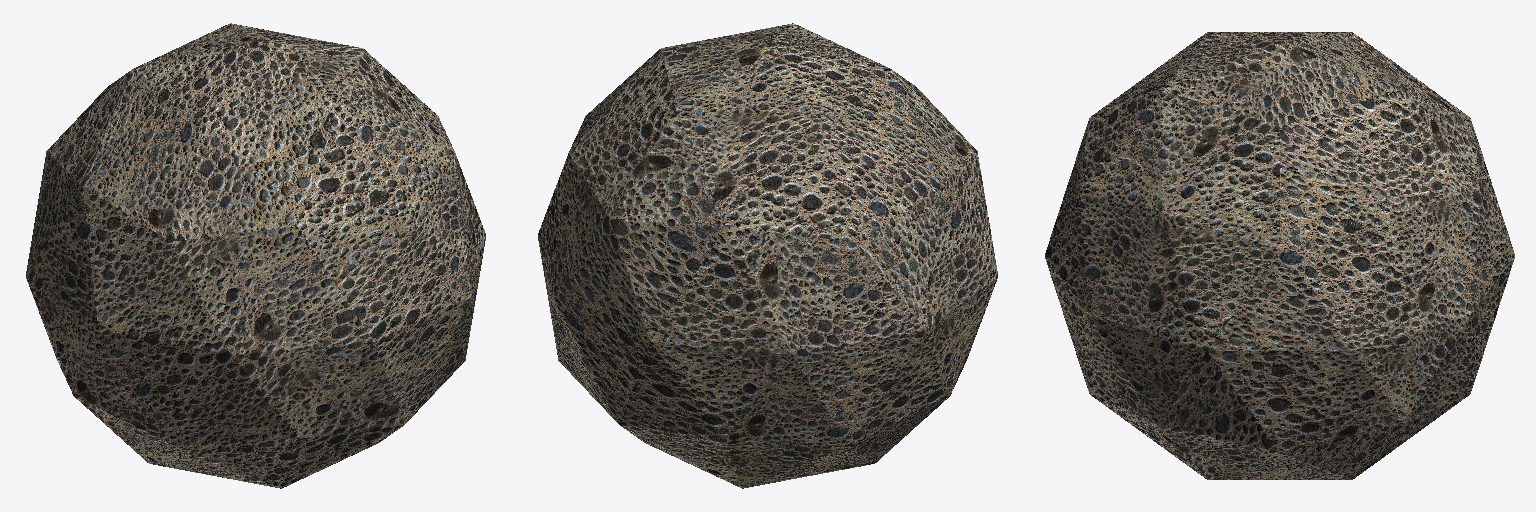
3 views of the same model, side by side, from view 1: azimuth 30°, elevation 25°; view 2: azimuth 150°, elevation 25°; view 3: azimuth 270°, elevation 25° (orthographic).
Visible parts, largest first — view 1: Icosphere; view 2: Icosphere; view 3: Icosphere.
Boxes of the visible parts, box(x1,y1,x2,y2) form: Icosphere: box(26, 23, 485, 488); Icosphere: box(538, 23, 997, 488); Icosphere: box(1045, 32, 1514, 479).
Bounding box in the file's own units: 92.46 × 97.22 × 97.22.
Materials: 1 (1 with a texture image).